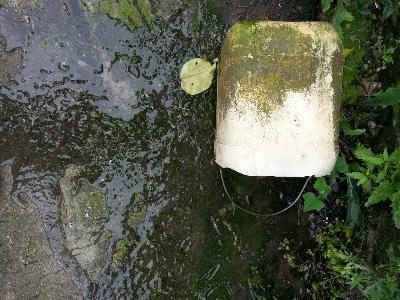bucket: (213, 15, 346, 183)
